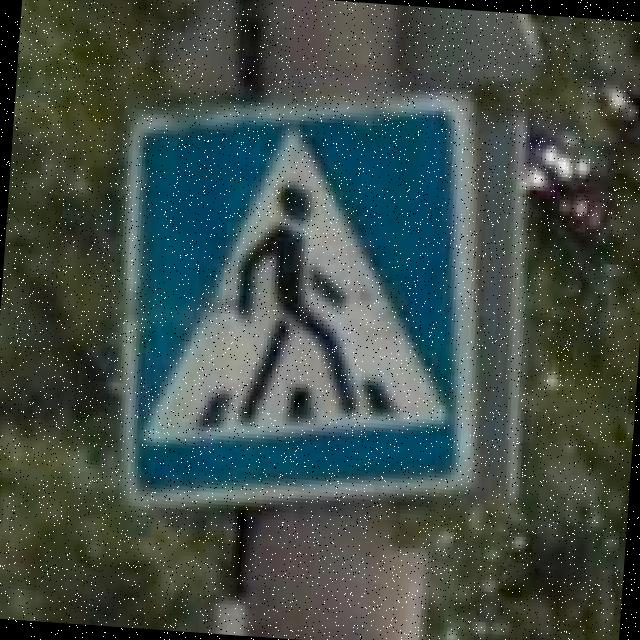Przejscie dla pieszych: (100, 66, 502, 536)
